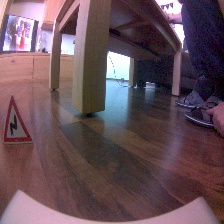vorsicht: (2, 93, 35, 147)
